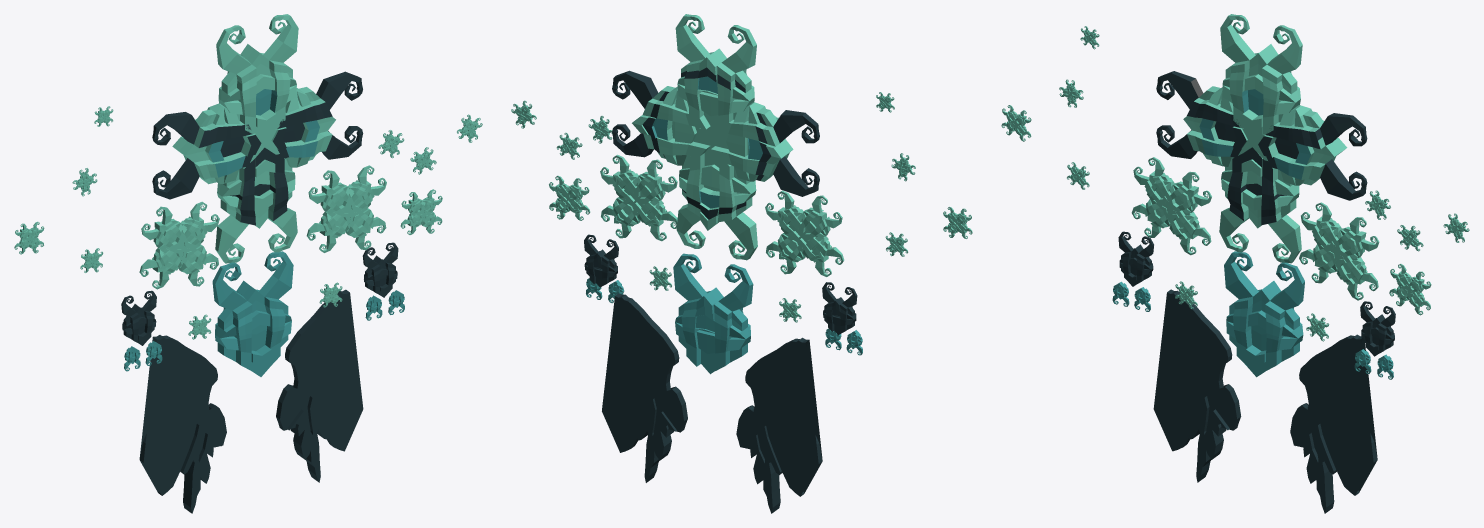
Rendered from 3Dmodel_WINDSPIRIT.fbx.
3 views of the same model, side by side, from view 1: azimuth 30°, elevation 25°; view 2: azimuth 150°, elevation 25°; view 3: azimuth 330°, elevation 25° (orthographic).
Visible parts, largest first — view 1: wind2.003, Cube, Vert.001, wind2.002, wind2.004, wind2.001, wind2.006, wind2.016, wind2.014; view 2: wind2.003, Cube, Vert.001, wind2.002, wind2.004, wind2.001, wind2.006, wind2.016, wind2.014; view 3: wind2.003, Cube, Vert.001, wind2.004, wind2.002, wind2.001, wind2.006, wind2.016, wind2.014.
Boxes of the visible parts, bbox=[...] form: wind2.003: bbox=[152, 14, 363, 263]; Cube: bbox=[139, 289, 363, 513]; Vert.001: bbox=[212, 251, 293, 376]; wind2.002: bbox=[139, 201, 219, 289]; wind2.004: bbox=[306, 165, 386, 252]; wind2.001: bbox=[121, 290, 156, 345]; wind2.006: bbox=[362, 242, 398, 297]; wind2.016: bbox=[400, 189, 442, 234]; wind2.014: bbox=[14, 221, 44, 254]; wind2.003: bbox=[612, 14, 819, 260]; Cube: bbox=[602, 293, 822, 513]; Vert.001: bbox=[673, 253, 753, 374]; wind2.002: bbox=[765, 190, 844, 276]; wind2.004: bbox=[600, 154, 677, 241]; wind2.001: bbox=[822, 282, 857, 334]; wind2.006: bbox=[584, 234, 618, 287]; wind2.016: bbox=[549, 175, 590, 220]; wind2.014: bbox=[943, 206, 972, 238]; wind2.003: bbox=[1156, 14, 1367, 263]; Cube: bbox=[1153, 289, 1377, 513]; Vert.001: bbox=[1224, 251, 1304, 377]; wind2.004: bbox=[1299, 202, 1379, 300]; wind2.002: bbox=[1131, 157, 1211, 255]; wind2.001: bbox=[1118, 231, 1153, 286]; wind2.006: bbox=[1360, 301, 1395, 356]; wind2.016: bbox=[1389, 264, 1431, 315]; wind2.014: bbox=[1001, 105, 1031, 141].
Bounding box in the file's own units: 725 × 707 × 61.77.
